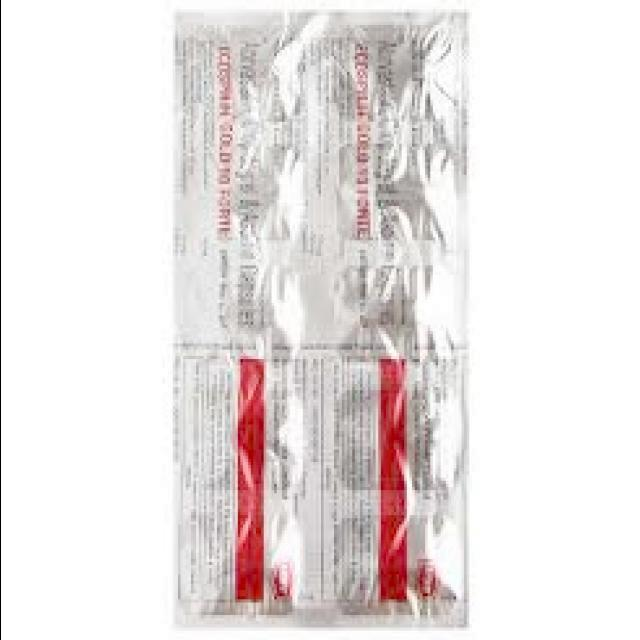authentic: (157, 0, 477, 640)
